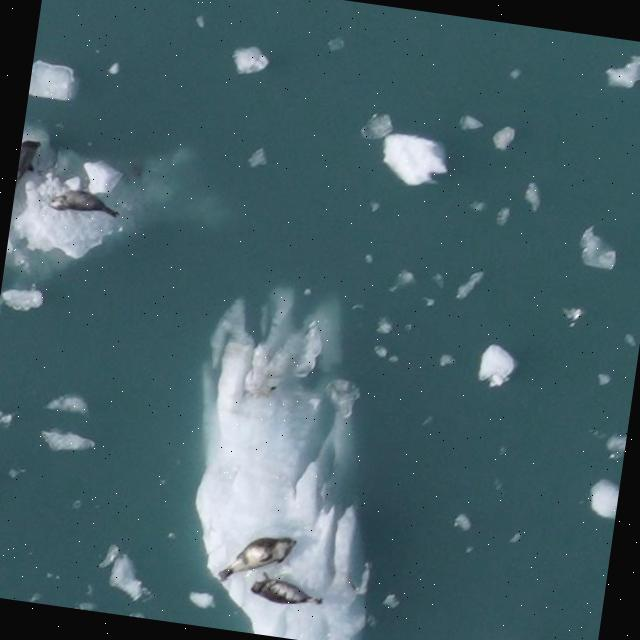seal: (211, 527, 302, 581), (251, 576, 322, 608), (49, 186, 120, 217), (15, 138, 41, 192)
